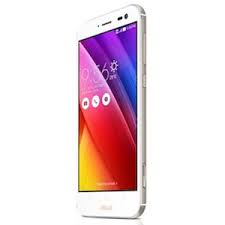asus: (70, 2, 146, 218)
